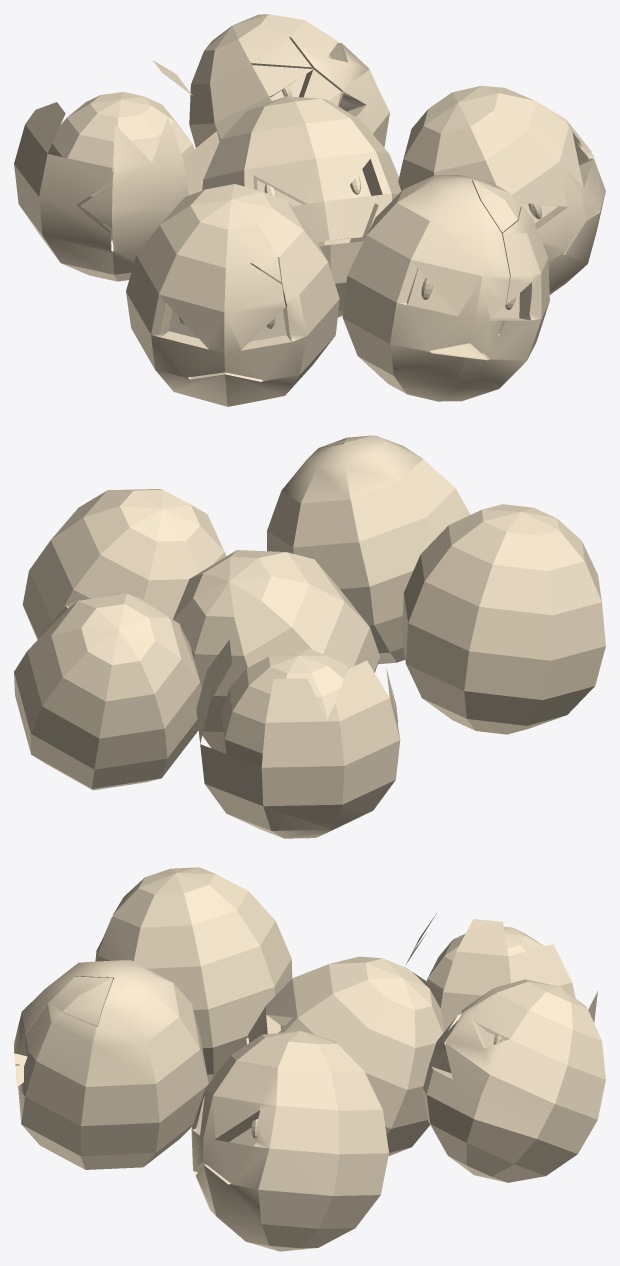
File: exeggcute.glb
3 renders of one model, top to bottom at view 1: azimuth 30°, elevation 25°; view 2: azimuth 150°, elevation 25°; view 3: azimuth 270°, elevation 25°, orthographic. The views are drawn at different scales.
Visible parts, largest first — view 1: Node; view 2: Node; view 3: Node.
Part boxes in pixels (box(x1,y1,x2,y2)): Node: box(14, 14, 605, 406); Node: box(14, 435, 605, 838); Node: box(14, 867, 605, 1251).
Size of the model in its own units: 9.14 by 3.9 by 9.72.
